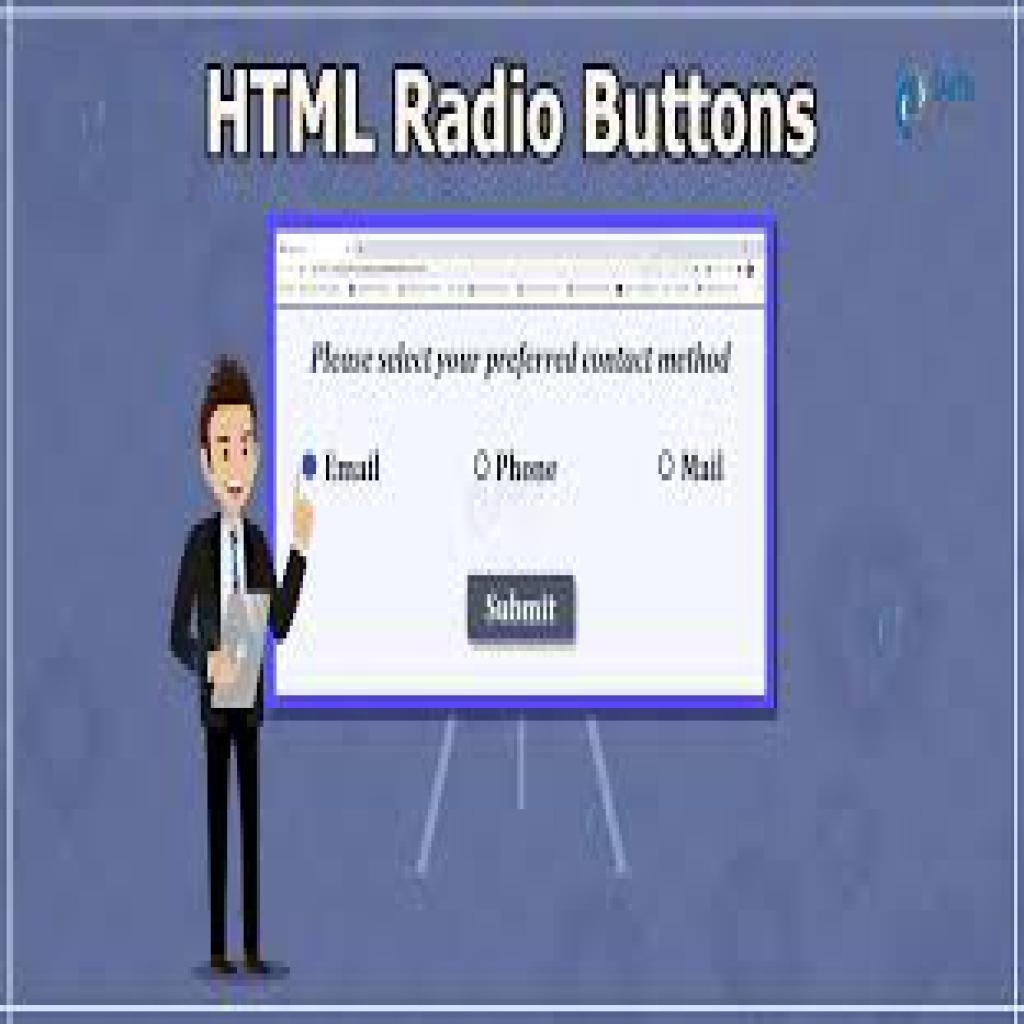button: (467, 575, 579, 650)
radio: (298, 445, 324, 487), (473, 442, 495, 488), (657, 445, 678, 487)
